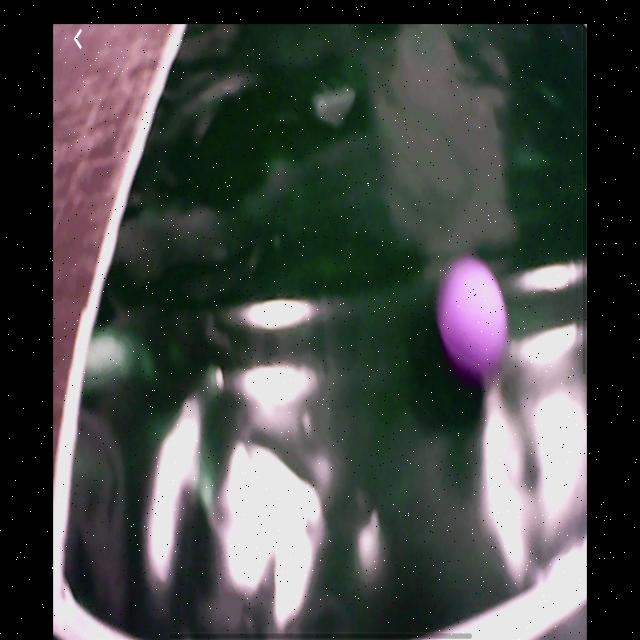ball: (439, 260, 508, 370)
